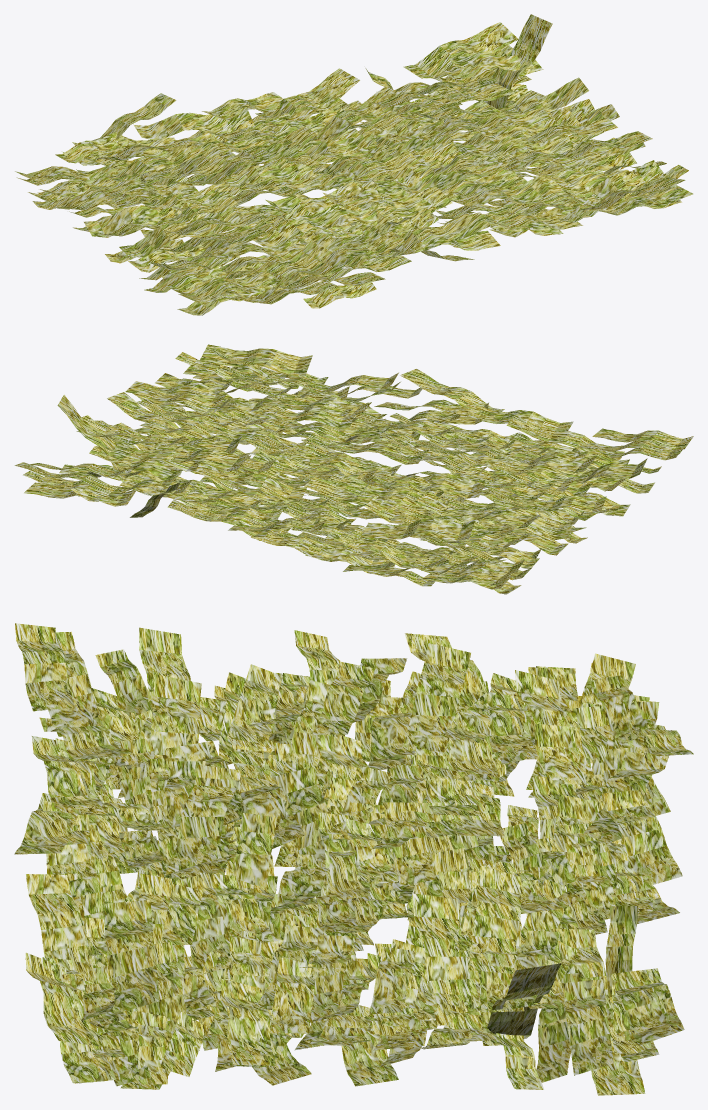
The model's file is salad_stack.fbx.
3 views of the same model, one above another, from view 1: azimuth 30°, elevation 25°; view 2: azimuth 150°, elevation 25°; view 3: azimuth 270°, elevation 25° (orthographic). The views are drawn at different scales.
Parts seen in each view (by area): view 1: Plane.497; view 2: Plane.497; view 3: Plane.497.
Part boxes in pixels (x1,y1,x2,y2): Plane.497: (15,14,693,315); Plane.497: (14,344,693,594); Plane.497: (14,623,693,1095).
Bounding box in the file's own units: 31.31 × 5.51 × 21.83.
